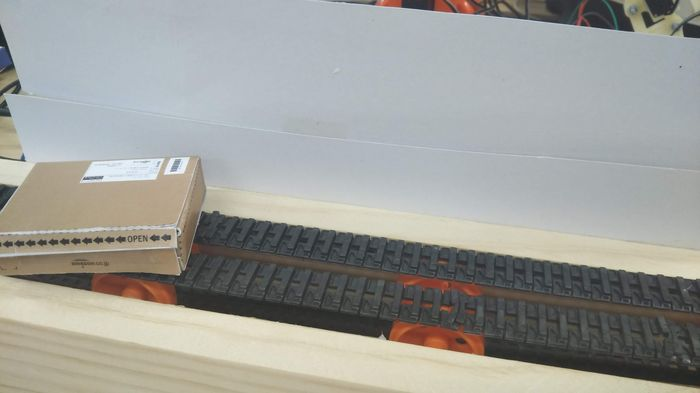box2: (1, 151, 208, 277)
